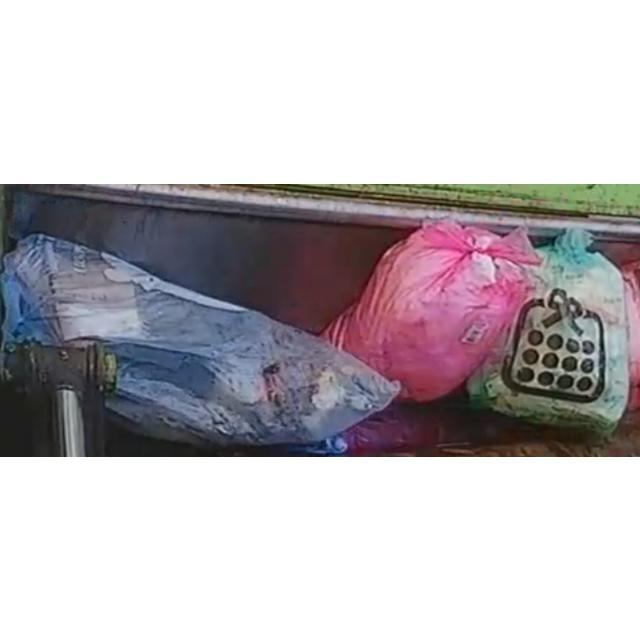general_trashbag: (468, 228, 629, 430)
other_trashbag: (2, 233, 399, 444), (322, 222, 540, 400)
